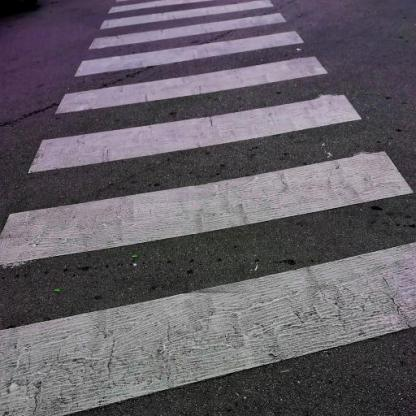crosswalk: (22, 52, 369, 180)
